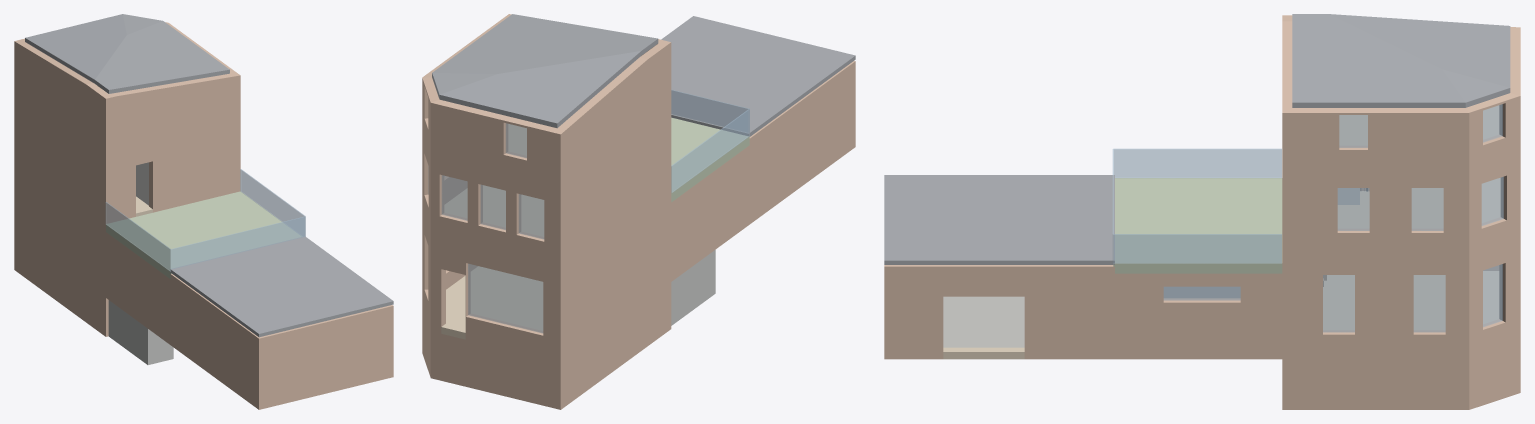
The model's file is maison (4).gltf.
The picture shows the model from 3 angles, left to right: view 1: azimuth 30°, elevation 25°; view 2: azimuth 150°, elevation 25°; view 3: azimuth 270°, elevation 25°; orthographic projection. The views are drawn at different scales.
Visible parts, largest first — view 1: 1-toiture-garage, 0I, 1-terrasse-projet, 2C, 1C, 0D, 0H, T-pan-cote-b, 2D, 1D, 1-terrasse-projet-garde-corps, 0E (+6 smaller); view 2: 1-toiture-garage, 0D, 0H, 2D, 2A, 1D, T-pan-cote-b, 1A, 0A, SA, 0E, T-pan-cote-a (+18 smaller); view 3: 1-toiture-garage, 0J, 1-terrasse-projet, 0B, 0F, 2B, 1B, T-pan-cote-b, 1-terrasse-projet-garde-corps, SB, T-pan-cote-a, 0-garage (+21 smaller).
Boxes of the visible parts, box(x1,y1,x2,y2) form: 1-toiture-garage: box(170, 236, 393, 337); 0I: box(259, 305, 393, 409); 1-terrasse-projet: box(106, 191, 301, 279); 2C: box(106, 73, 240, 162); 1C: box(106, 130, 240, 223); 0D: box(14, 160, 105, 297); 0H: box(170, 274, 259, 409); T-pan-cote-b: box(67, 21, 229, 93); 2D: box(14, 41, 108, 162); 1D: box(14, 96, 105, 226); 1-terrasse-projet-garde-corps: box(105, 169, 305, 271); 0E: box(106, 232, 170, 344); 1-toiture-garage: box(661, 16, 855, 136); 0D: box(560, 196, 671, 362); 0H: box(748, 61, 855, 224); 2D: box(557, 42, 671, 199); 2A: box(430, 99, 560, 199); 1D: box(560, 119, 671, 276); T-pan-cote-b: box(433, 14, 658, 83); 1A: box(430, 168, 560, 276); 0A: box(430, 245, 560, 362); SA: box(430, 331, 560, 409); 0E: box(671, 146, 748, 281); T-pan-cote-a: box(439, 70, 608, 128); 1-toiture-garage: box(884, 175, 1114, 264); 0J: box(884, 265, 1114, 359); 1-terrasse-projet: box(1113, 178, 1282, 273); 0B: box(1282, 266, 1469, 359); 0F: box(1115, 273, 1282, 359); 2B: box(1282, 108, 1469, 183); 1B: box(1282, 183, 1469, 266); T-pan-cote-b: box(1292, 14, 1465, 107); 1-terrasse-projet-garde-corps: box(1112, 148, 1281, 263); SB: box(1282, 359, 1469, 409); T-pan-cote-a: box(1399, 18, 1510, 87); 0-garage: box(943, 296, 1024, 347).
Bounding box in the file's own units: 6.35 × 10.95 × 19.86.
